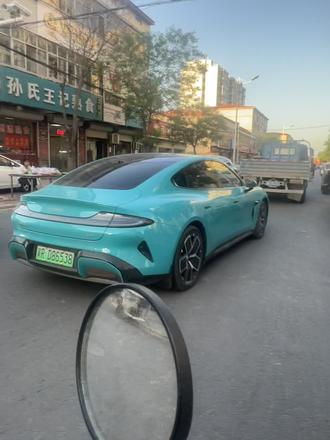su7: (6, 152, 268, 293)
